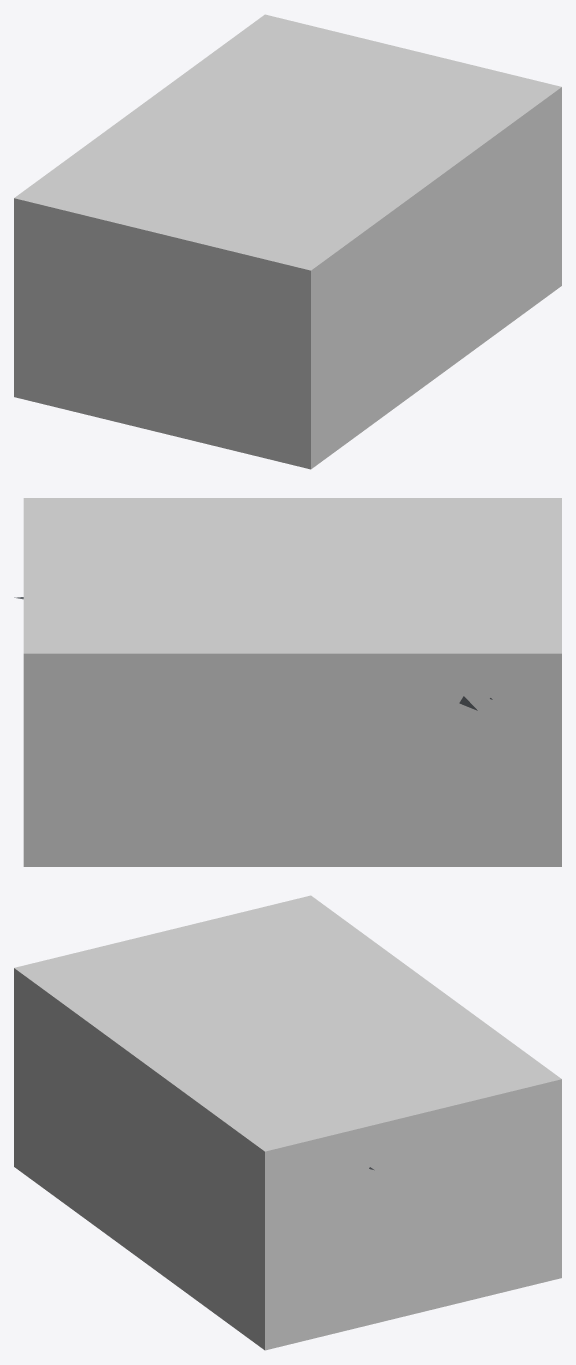
Rendered from plains_aggressive_seagull.fbx.
3 views of the same model, one above another, from view 1: azimuth 30°, elevation 25°; view 2: azimuth 150°, elevation 25°; view 3: azimuth 270°, elevation 25° (orthographic). The views are drawn at different scales.
Parts seen in each view (by area): view 1: Root__0.00_1.50_0.00__6.86_3.00_4.69; view 2: Root__0.00_1.50_0.00__6.86_3.00_4.69; view 3: Root__0.00_1.50_0.00__6.86_3.00_4.69.
Boxes of the visible parts, <box> form: Root__0.00_1.50_0.00__6.86_3.00_4.69: <box>14,14,561,469</box>; Root__0.00_1.50_0.00__6.86_3.00_4.69: <box>23,498,561,866</box>; Root__0.00_1.50_0.00__6.86_3.00_4.69: <box>14,895,561,1350</box>.
Size of the model in its own units: 232 by 84 by 210.
Materials: 1 (1 with a texture image).
